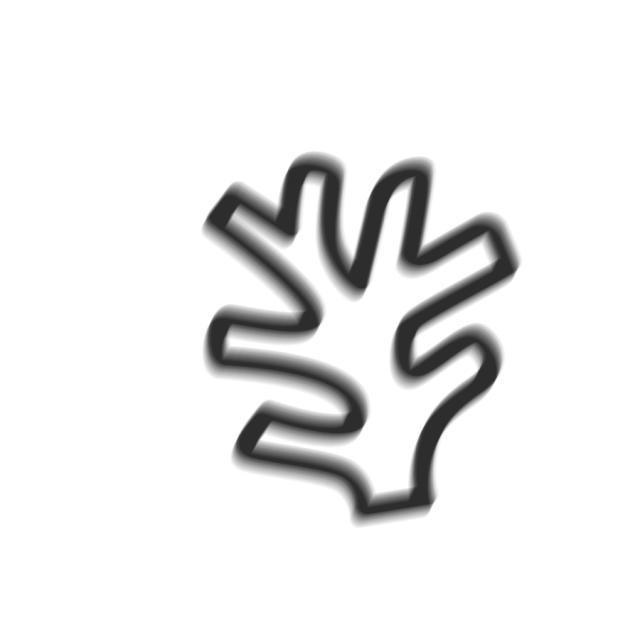coral: (195, 150, 528, 535)
